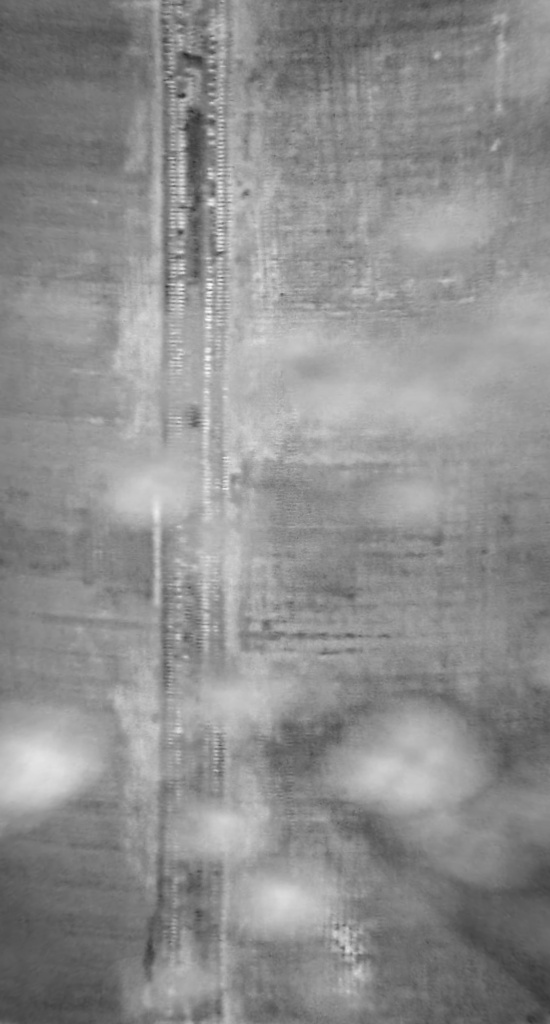splice: (142, 3, 239, 1024)
